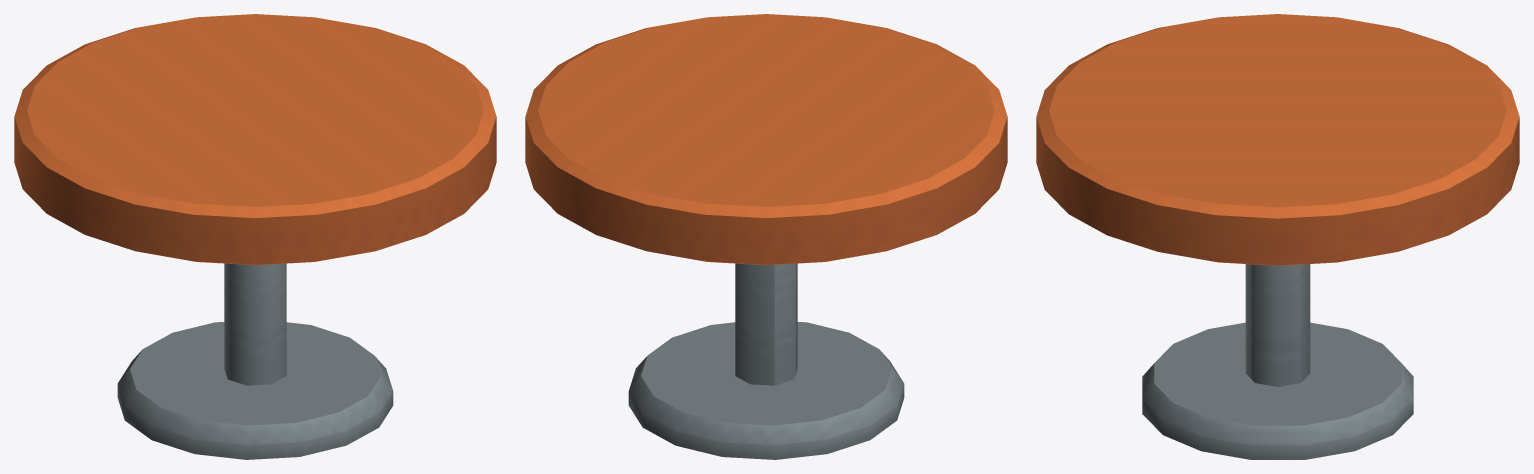
The model's file is table_round_A_small.gltf.
3 views of the same model, side by side, from view 1: azimuth 30°, elevation 25°; view 2: azimuth 150°, elevation 25°; view 3: azimuth 270°, elevation 25° (orthographic).
Visible parts, largest first — view 1: table_round_A_small; view 2: table_round_A_small; view 3: table_round_A_small.
Part boxes in pixels (bbox=[...]): table_round_A_small: bbox=[14, 14, 496, 459]; table_round_A_small: bbox=[525, 14, 1007, 459]; table_round_A_small: bbox=[1036, 14, 1519, 459].
Size of the model in its own units: 1.5 by 1 by 1.5.
Materials: 1 (1 with a texture image).
